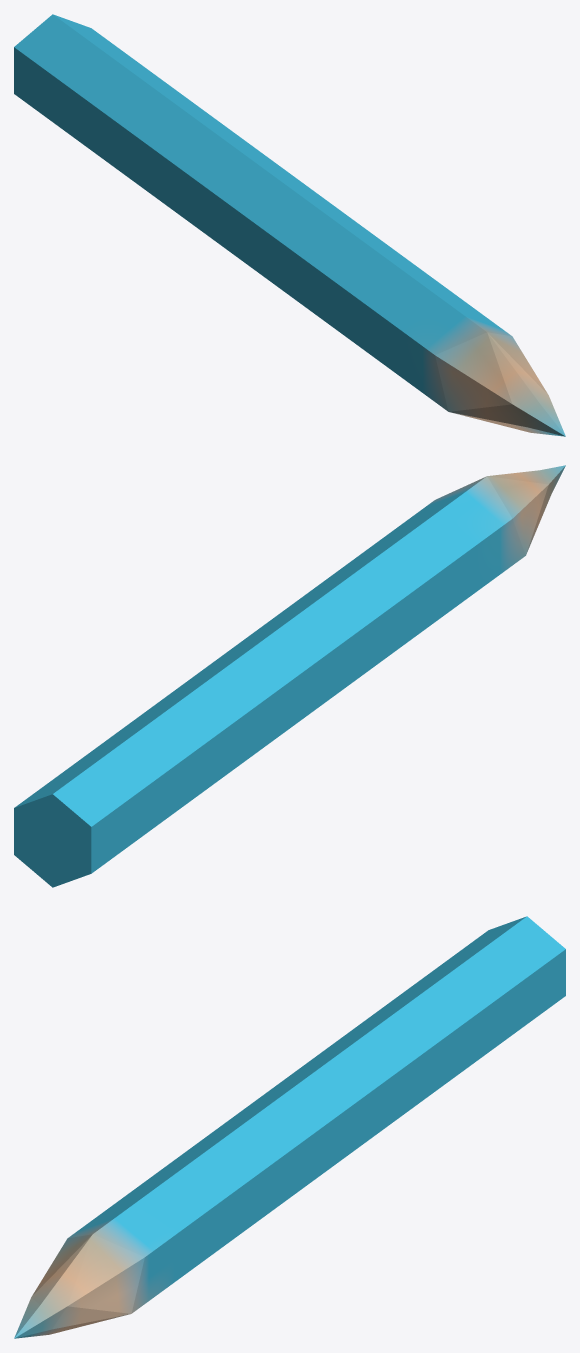
Rendered from ColorLapiz.fbx.
The picture shows the model from 3 angles, top to bottom: view 1: azimuth 30°, elevation 25°; view 2: azimuth 150°, elevation 25°; view 3: azimuth 330°, elevation 25°; orthographic projection.
Parts seen in each view (by area): view 1: Color; view 2: Color; view 3: Color.
Part boxes in pixels (bbox=[...]): Color: bbox=[14, 14, 565, 436]; Color: bbox=[14, 465, 565, 887]; Color: bbox=[14, 916, 565, 1338].
Bounding box in the file's own units: 2.21 × 2.56 × 25.42.
